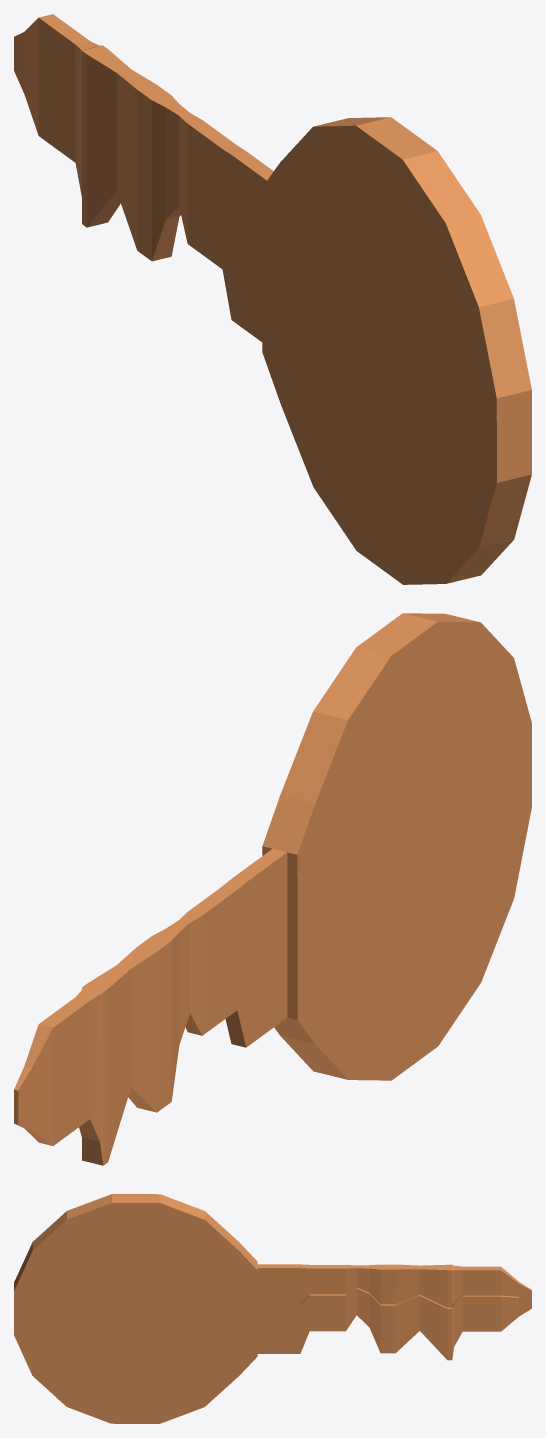
The model's file is Key2Outline.fbx.
3 renders of one model, top to bottom at view 1: azimuth 30°, elevation 25°; view 2: azimuth 150°, elevation 25°; view 3: azimuth 270°, elevation 25°, orthographic. The views are drawn at different scales.
Parts seen in each view (by area): view 1: Cylinder; view 2: Cylinder; view 3: Cylinder.
Part boxes in pixels (left/top/right/bottom): Cylinder: left=14, top=14, right=531, bottom=584; Cylinder: left=14, top=613, right=531, bottom=1165; Cylinder: left=14, top=1194, right=531, bottom=1423.
Bounding box in the file's own units: 16.96 × 196 × 417.
